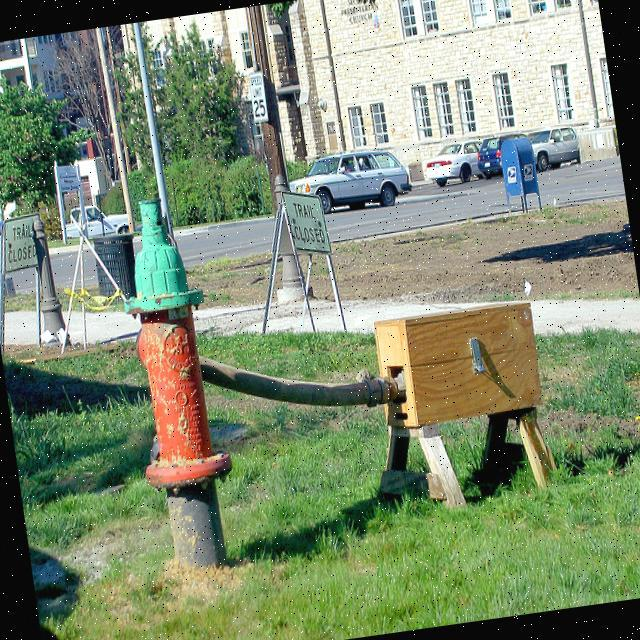fire_hydrant: (105, 186, 243, 577)
